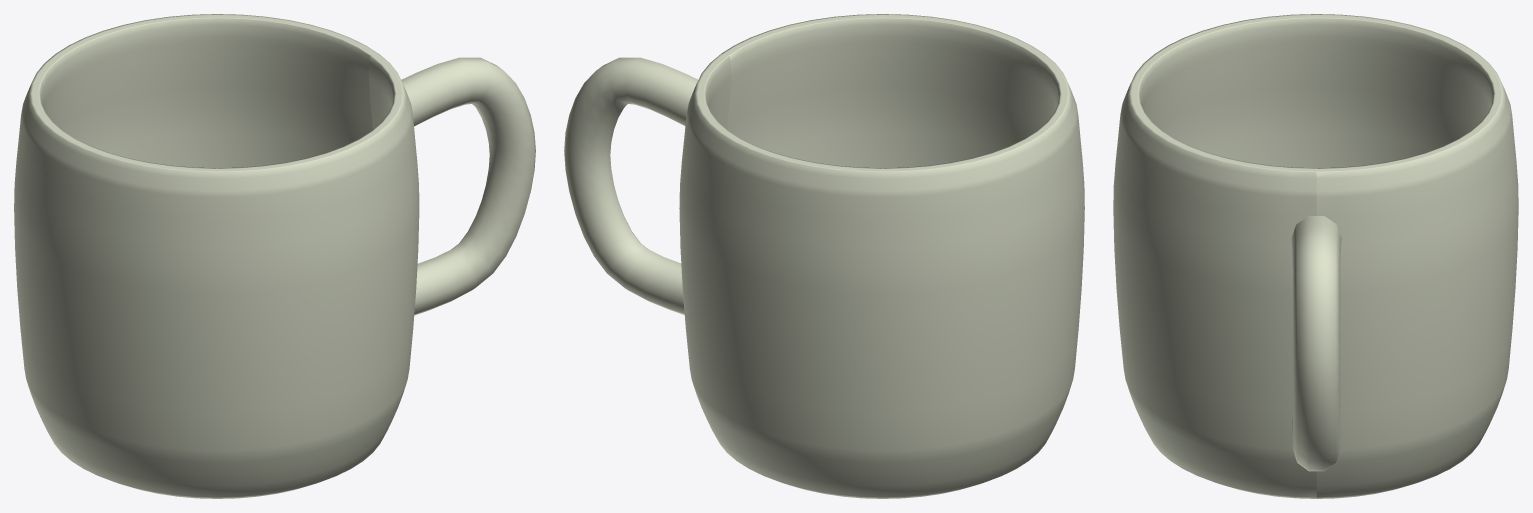
Rendered from product-off.mug.glb.
3 renders of one model, left to right at view 1: azimuth 30°, elevation 25°; view 2: azimuth 150°, elevation 25°; view 3: azimuth 270°, elevation 25°, orthographic.
Parts seen in each view (by area): view 1: product-off.mug; view 2: product-off.mug; view 3: product-off.mug.
Boxes of the visible parts, <box> form: product-off.mug: <box>14,14,535,498</box>; product-off.mug: <box>564,14,1084,498</box>; product-off.mug: <box>1113,14,1518,498</box>.
Bounding box in the file's own units: 0.3354 × 0.228 × 0.24.
